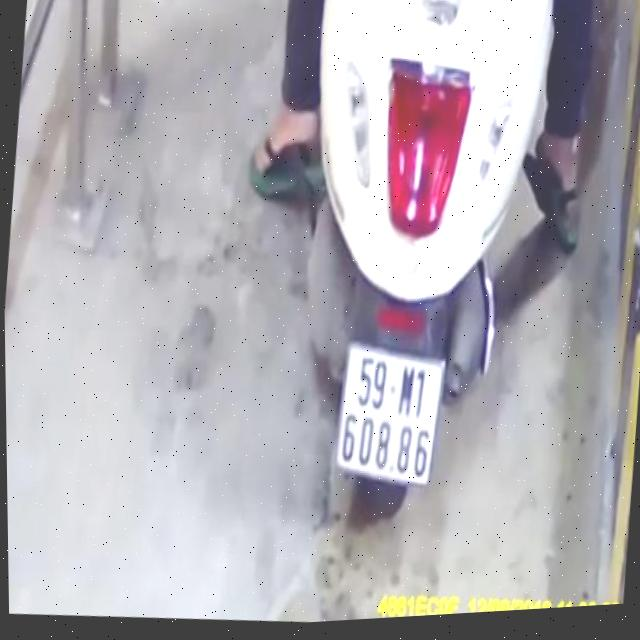motorcycle: (254, 0, 577, 573)
plate: (324, 334, 453, 497)
